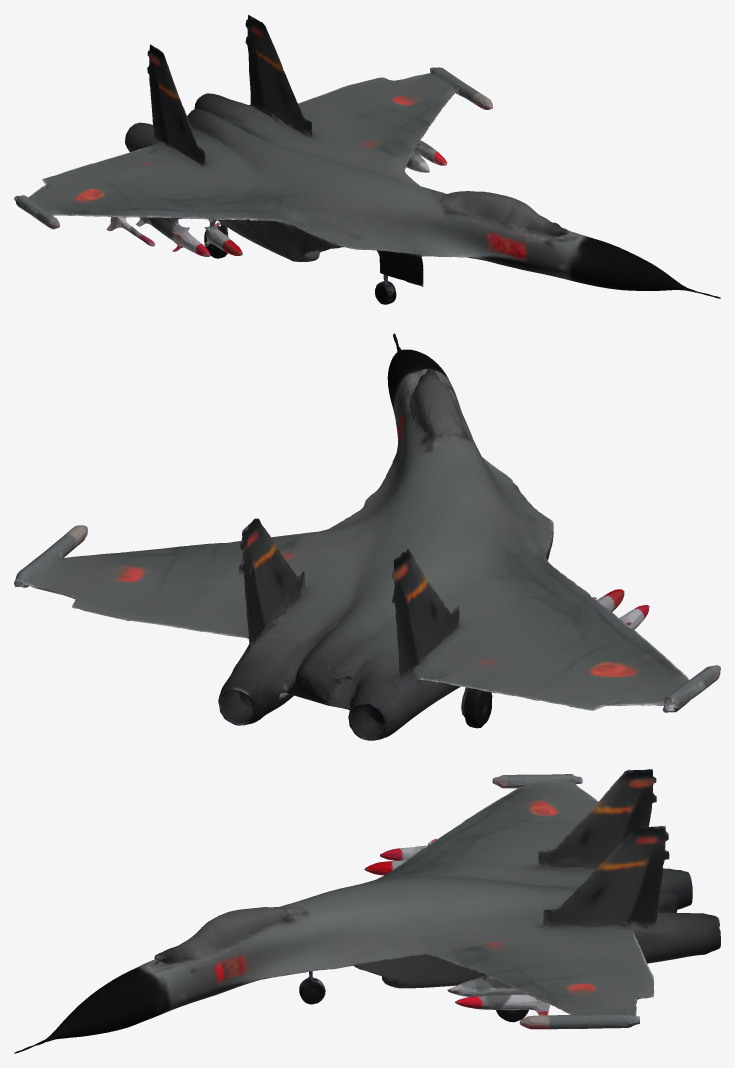
Rendered from J-15_Flying_Shark_AI_Rodin.glb.
3 renders of one model, top to bottom at view 1: azimuth 30°, elevation 25°; view 2: azimuth 150°, elevation 25°; view 3: azimuth 270°, elevation 25°, orthographic. The views are drawn at different scales.
Visible parts, largest first — view 1: model; view 2: model; view 3: model.
Boxes of the visible parts, left/top/right/bottom form: model: left=14, top=14, right=720, bottom=304; model: left=14, top=333, right=720, bottom=740; model: left=14, top=769, right=720, bottom=1053.
Bounding box in the file's own units: 1.58 × 0.5574 × 1.9.
1 material, 1 textured.
